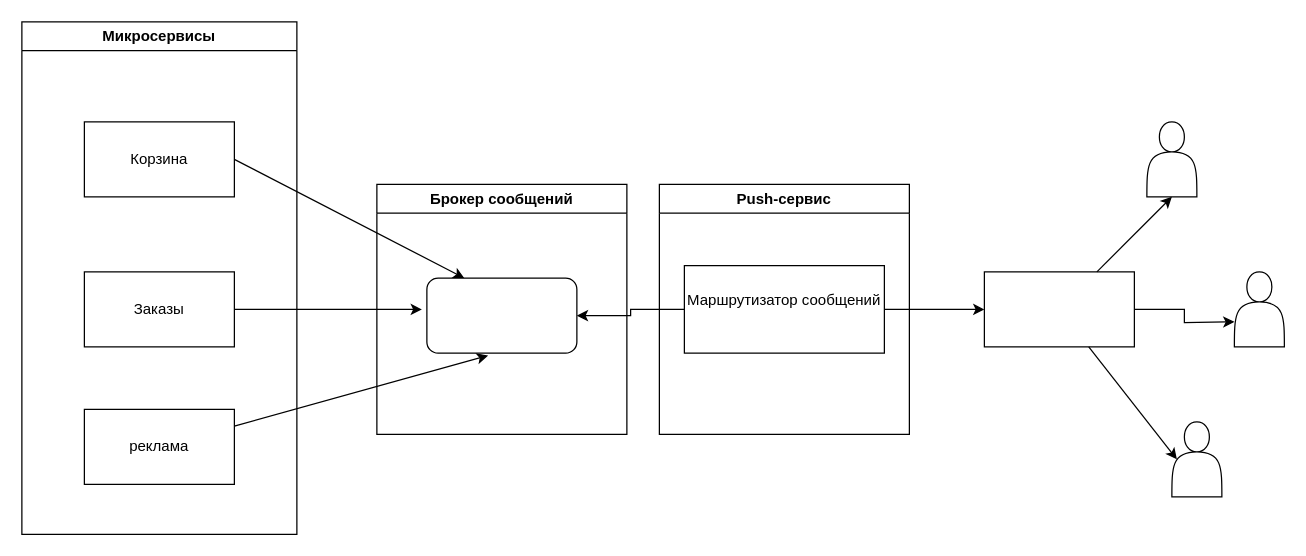
The diagram is 1306 pixels wide and 556 high, and some of its shapes have lost their labels. The shapes that lost their labels are listed below. From the top down, each one's centre as x and y in pixels, then its label:
the point at 501,315: топик/очередь
the point at 1058,309: Firebase Cloud Meassagig
